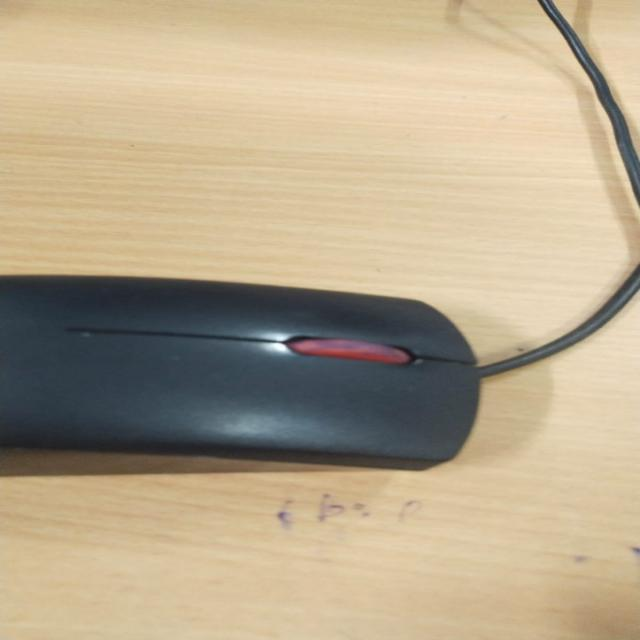mouse: (50, 170, 640, 512)
